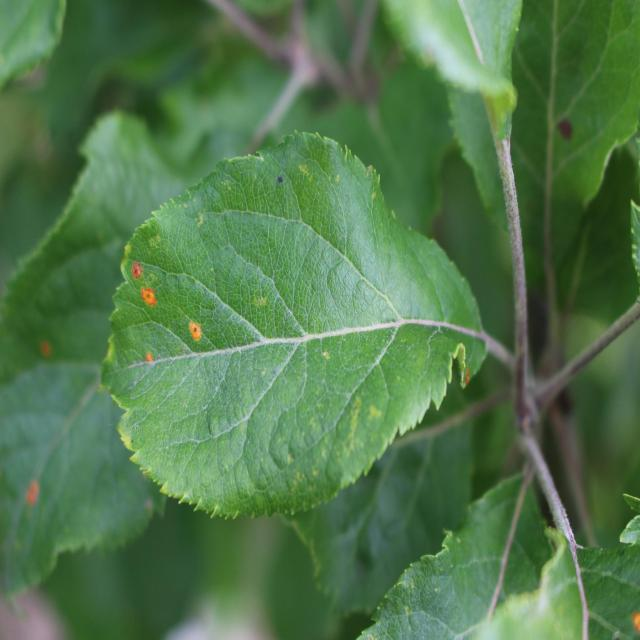Rust: (126, 236, 147, 288), (185, 313, 216, 348), (136, 286, 165, 314), (140, 352, 164, 373)
